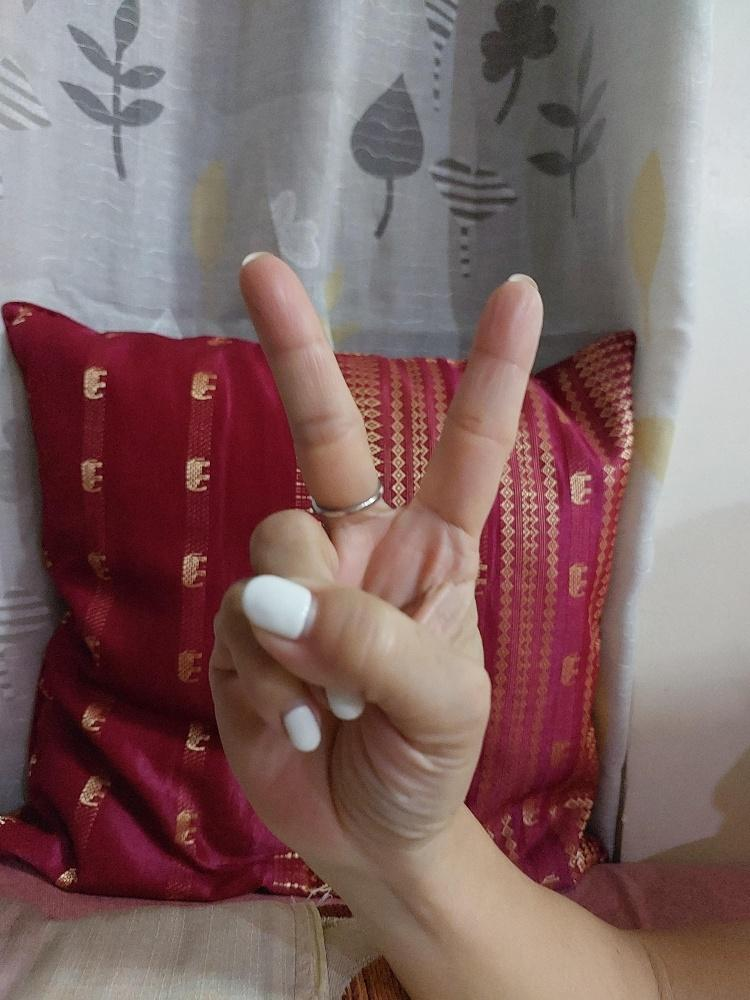v: (203, 246, 545, 854)
